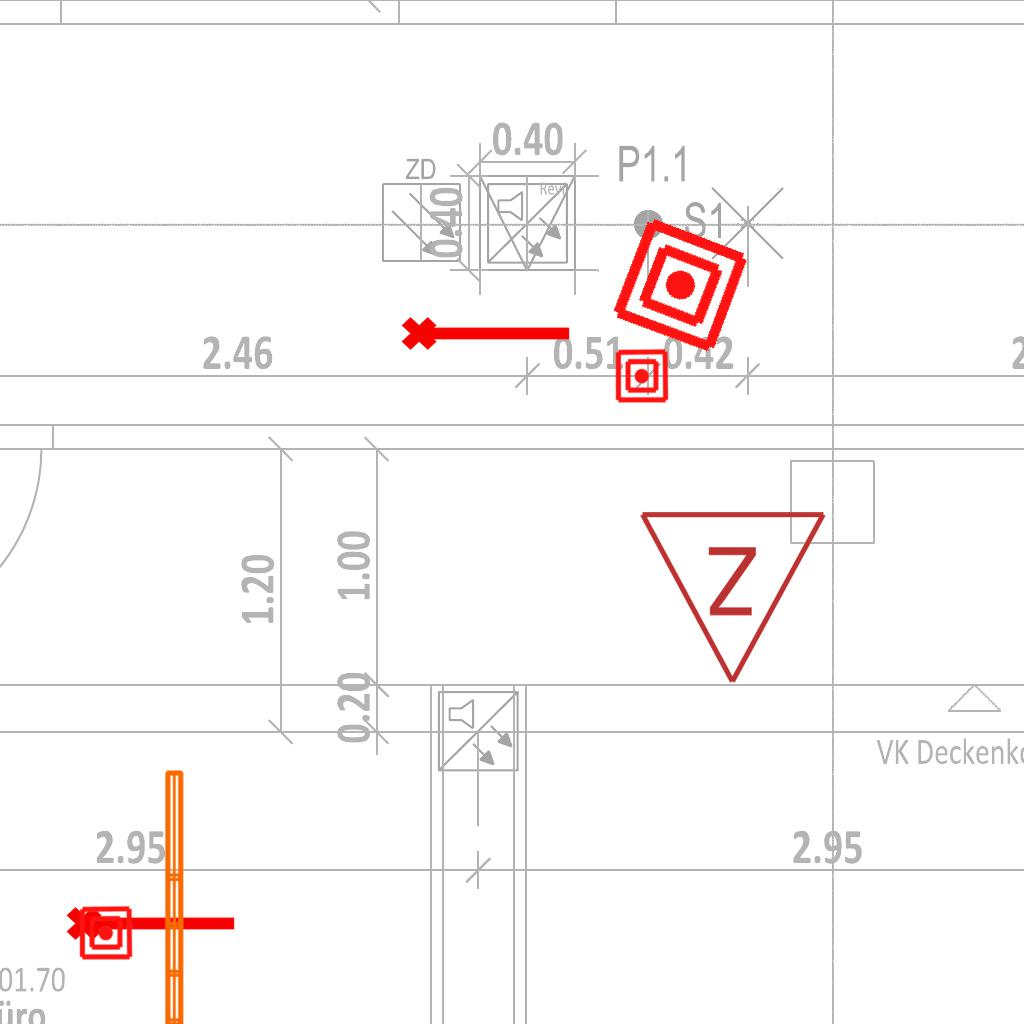ASR_Ansaugoeffnung: (64, 898, 240, 944), (399, 308, 575, 354)
Ambulanz_Pendelleuchte_LED: (159, 765, 215, 1024)
NAM-Nichtautomatischer_Melder: (607, 212, 754, 359), (614, 348, 670, 404), (78, 905, 134, 961)
Zimmersignalleuchte: (637, 497, 833, 697)
